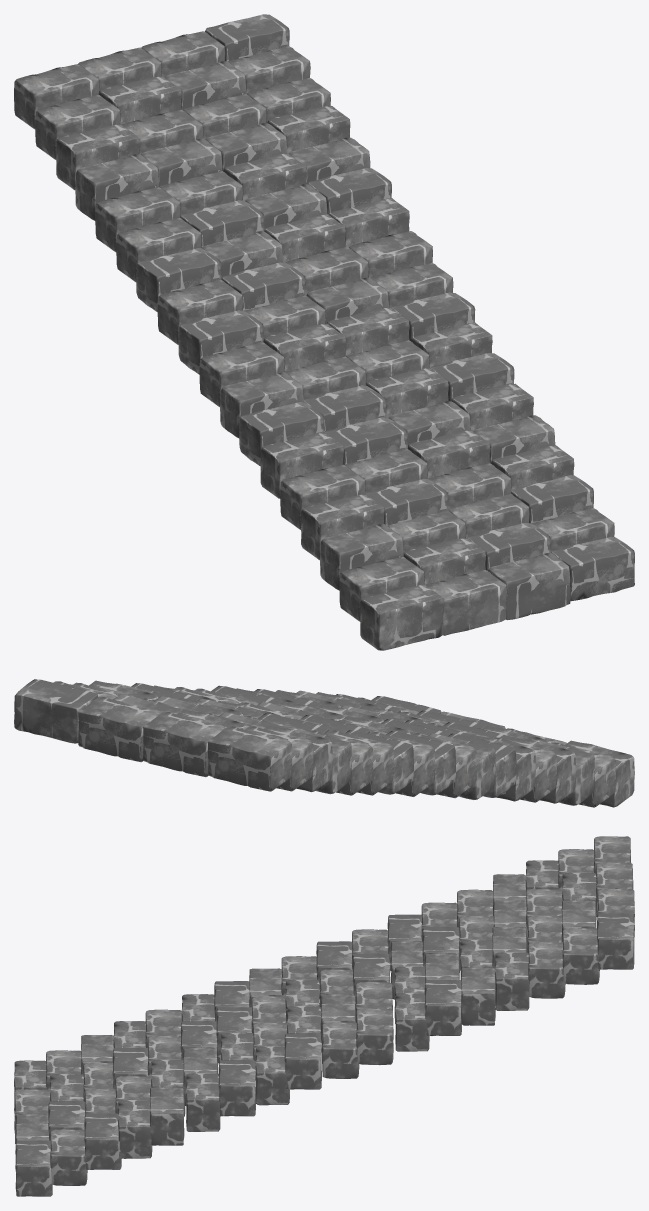
File: Stairs.fbx
3 views of the same model, one above another, from view 1: azimuth 30°, elevation 25°; view 2: azimuth 150°, elevation 25°; view 3: azimuth 270°, elevation 25° (orthographic). The views are drawn at different scales.
Visible parts, largest first — view 1: Stairs; view 2: Stairs; view 3: Stairs.
Boxes of the visible parts, x1,y1,x2,y2 form: Stairs: [14, 14, 634, 650]; Stairs: [14, 679, 634, 807]; Stairs: [14, 836, 634, 1196].
Bounding box in the file's own units: 2.12 × 2.44 × 5.26.
